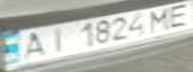1: (72, 20, 96, 48)
2: (109, 15, 133, 42)
4: (124, 11, 151, 37)
8: (93, 17, 115, 45)
A: (12, 29, 54, 61)
E: (160, 1, 193, 29)
I: (39, 25, 75, 54)
M: (142, 4, 178, 34)
